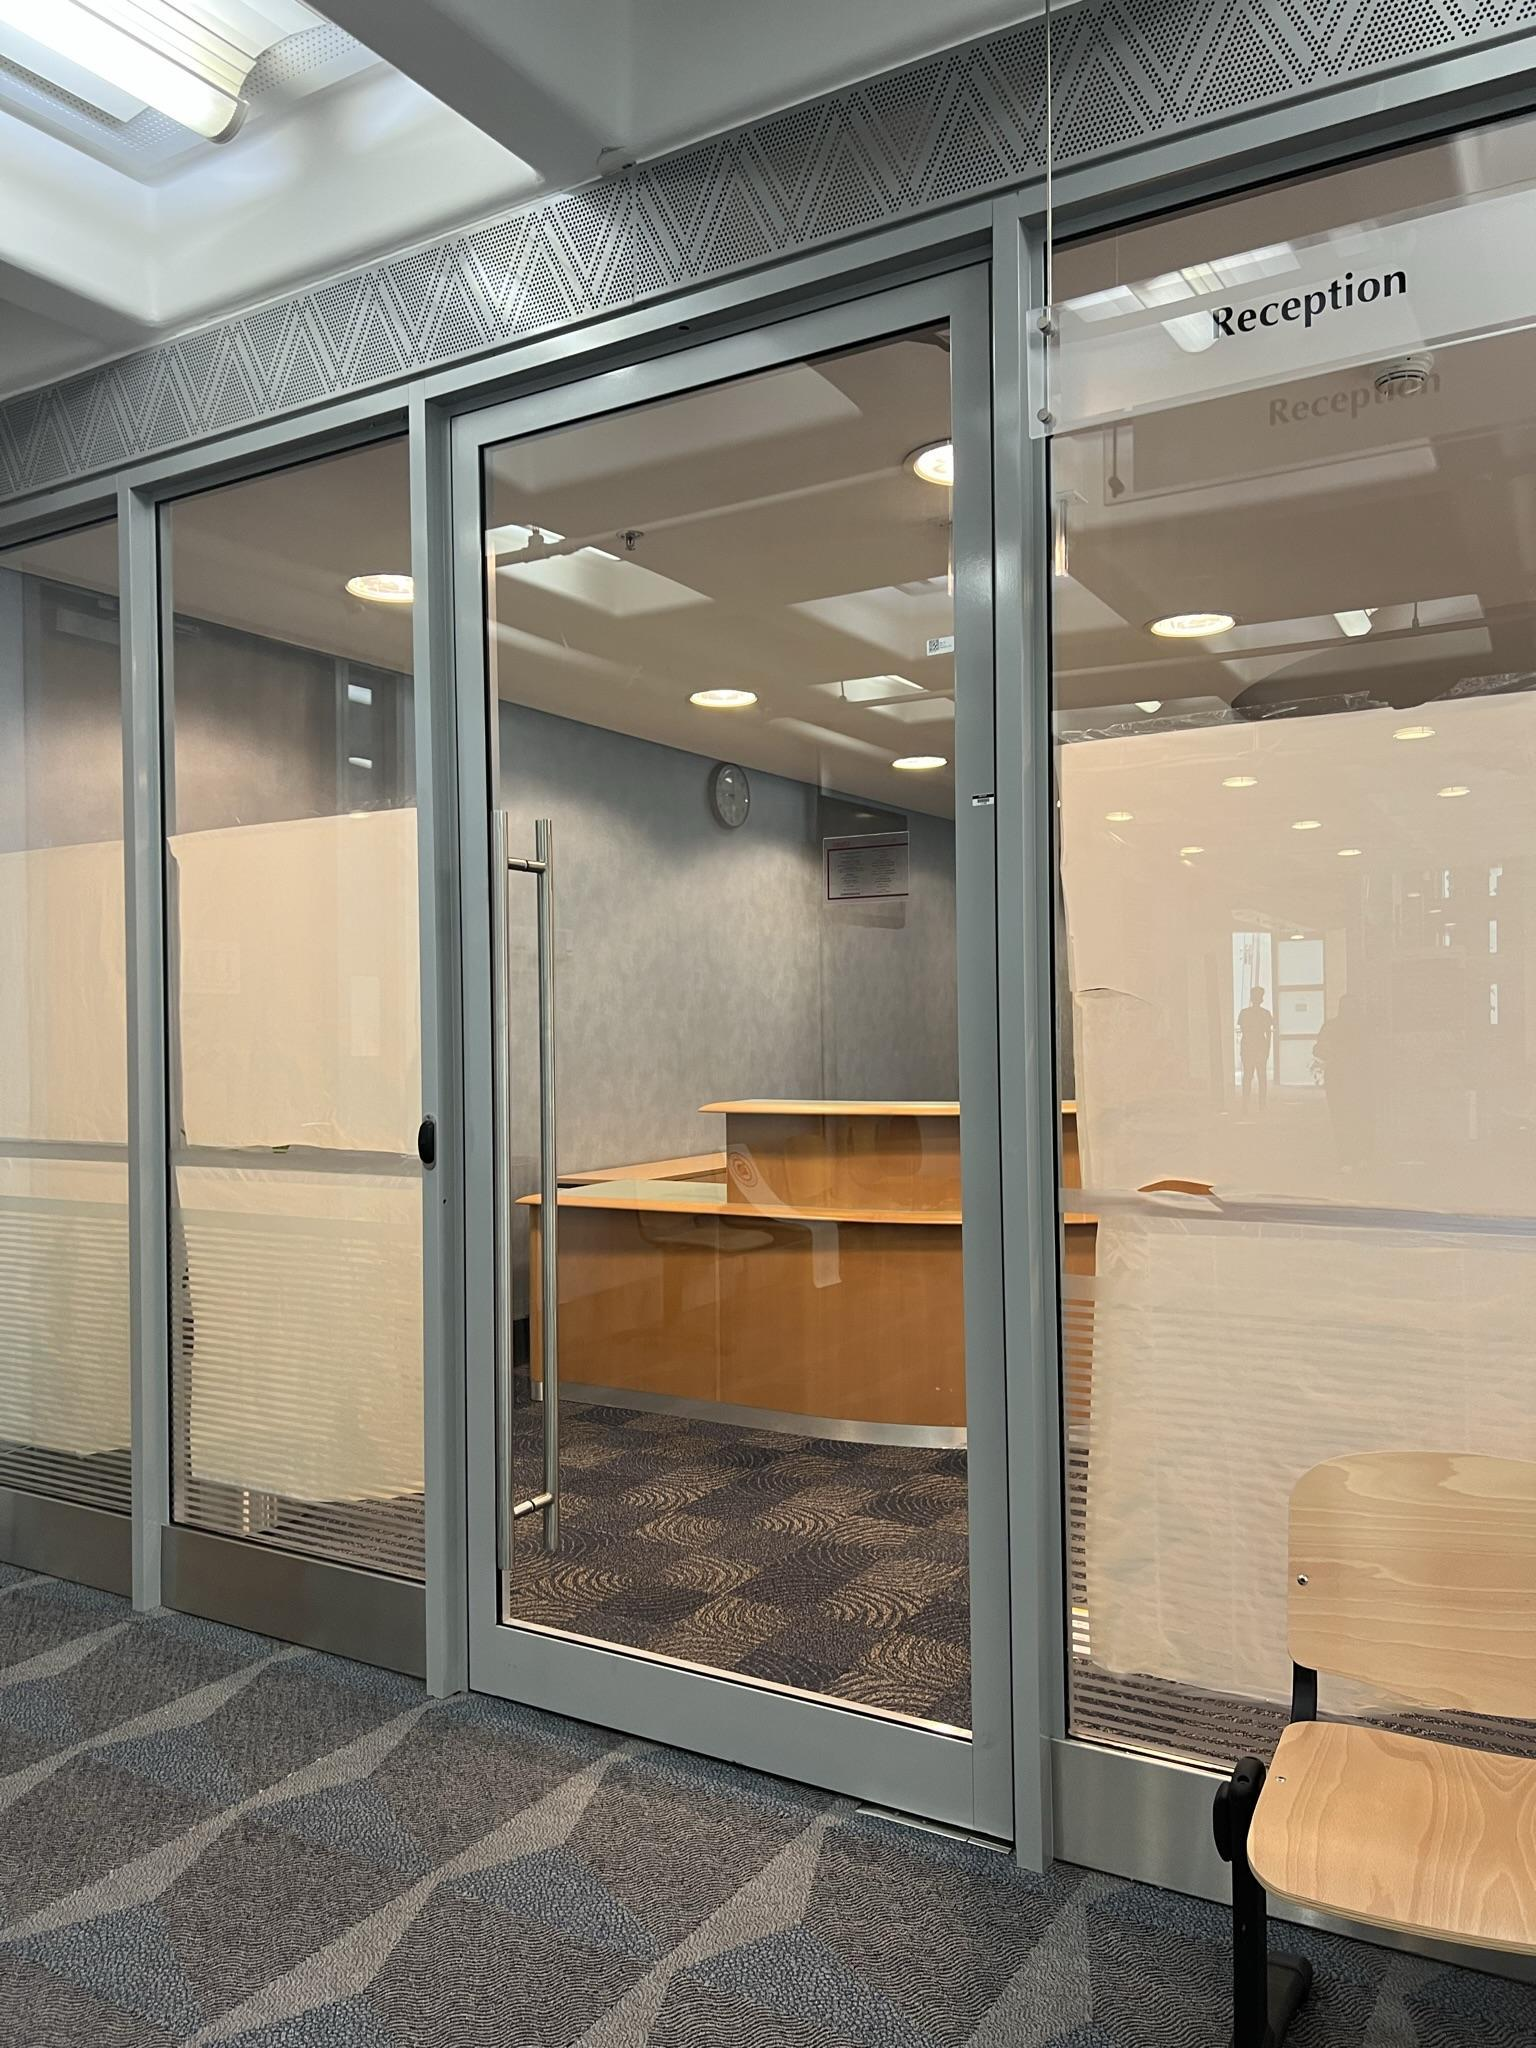door: (432, 361, 1045, 1830)
handle: (487, 796, 541, 1574)
